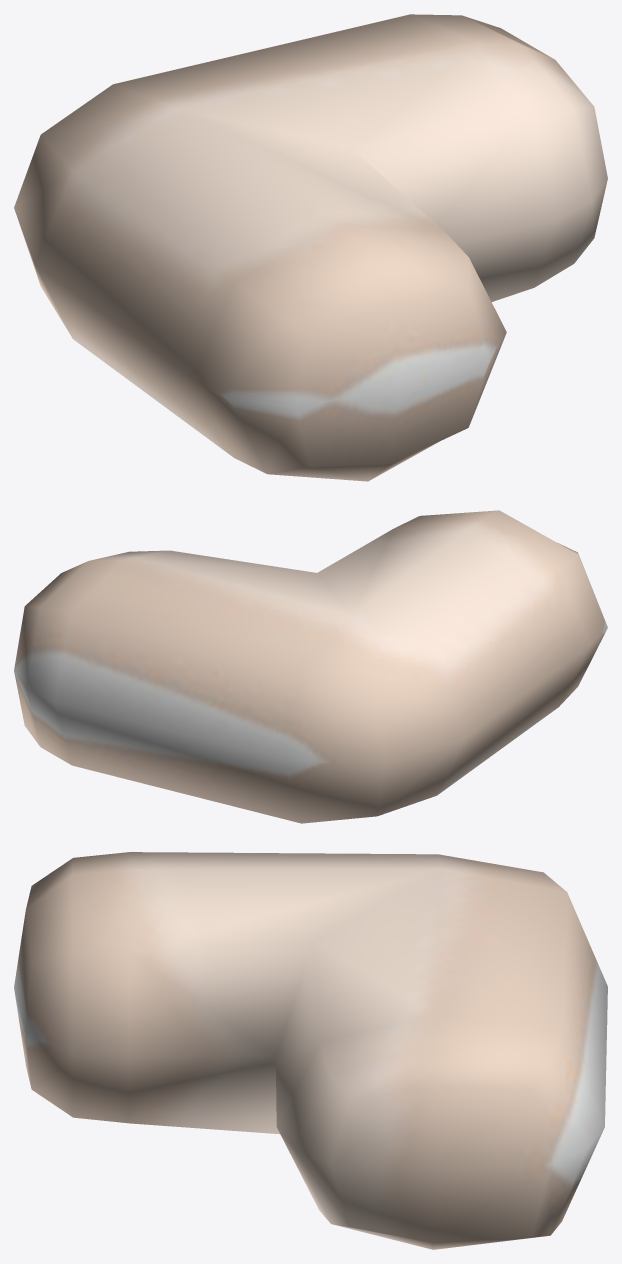
File: BobbinWall_goc.fbx
3 renders of one model, top to bottom at view 1: azimuth 30°, elevation 25°; view 2: azimuth 150°, elevation 25°; view 3: azimuth 270°, elevation 25°, orthographic. The views are drawn at different scales.
Parts seen in each view (by area): view 1: BobbinWall_3; view 2: BobbinWall_3; view 3: BobbinWall_3.
Boxes of the visible parts, left/top/right/bottom form: BobbinWall_3: left=14, top=14, right=607, bottom=481; BobbinWall_3: left=14, top=510, right=607, bottom=823; BobbinWall_3: left=14, top=852, right=607, bottom=1249.
Size of the model in its own units: 4.27 by 1.87 by 4.28.
